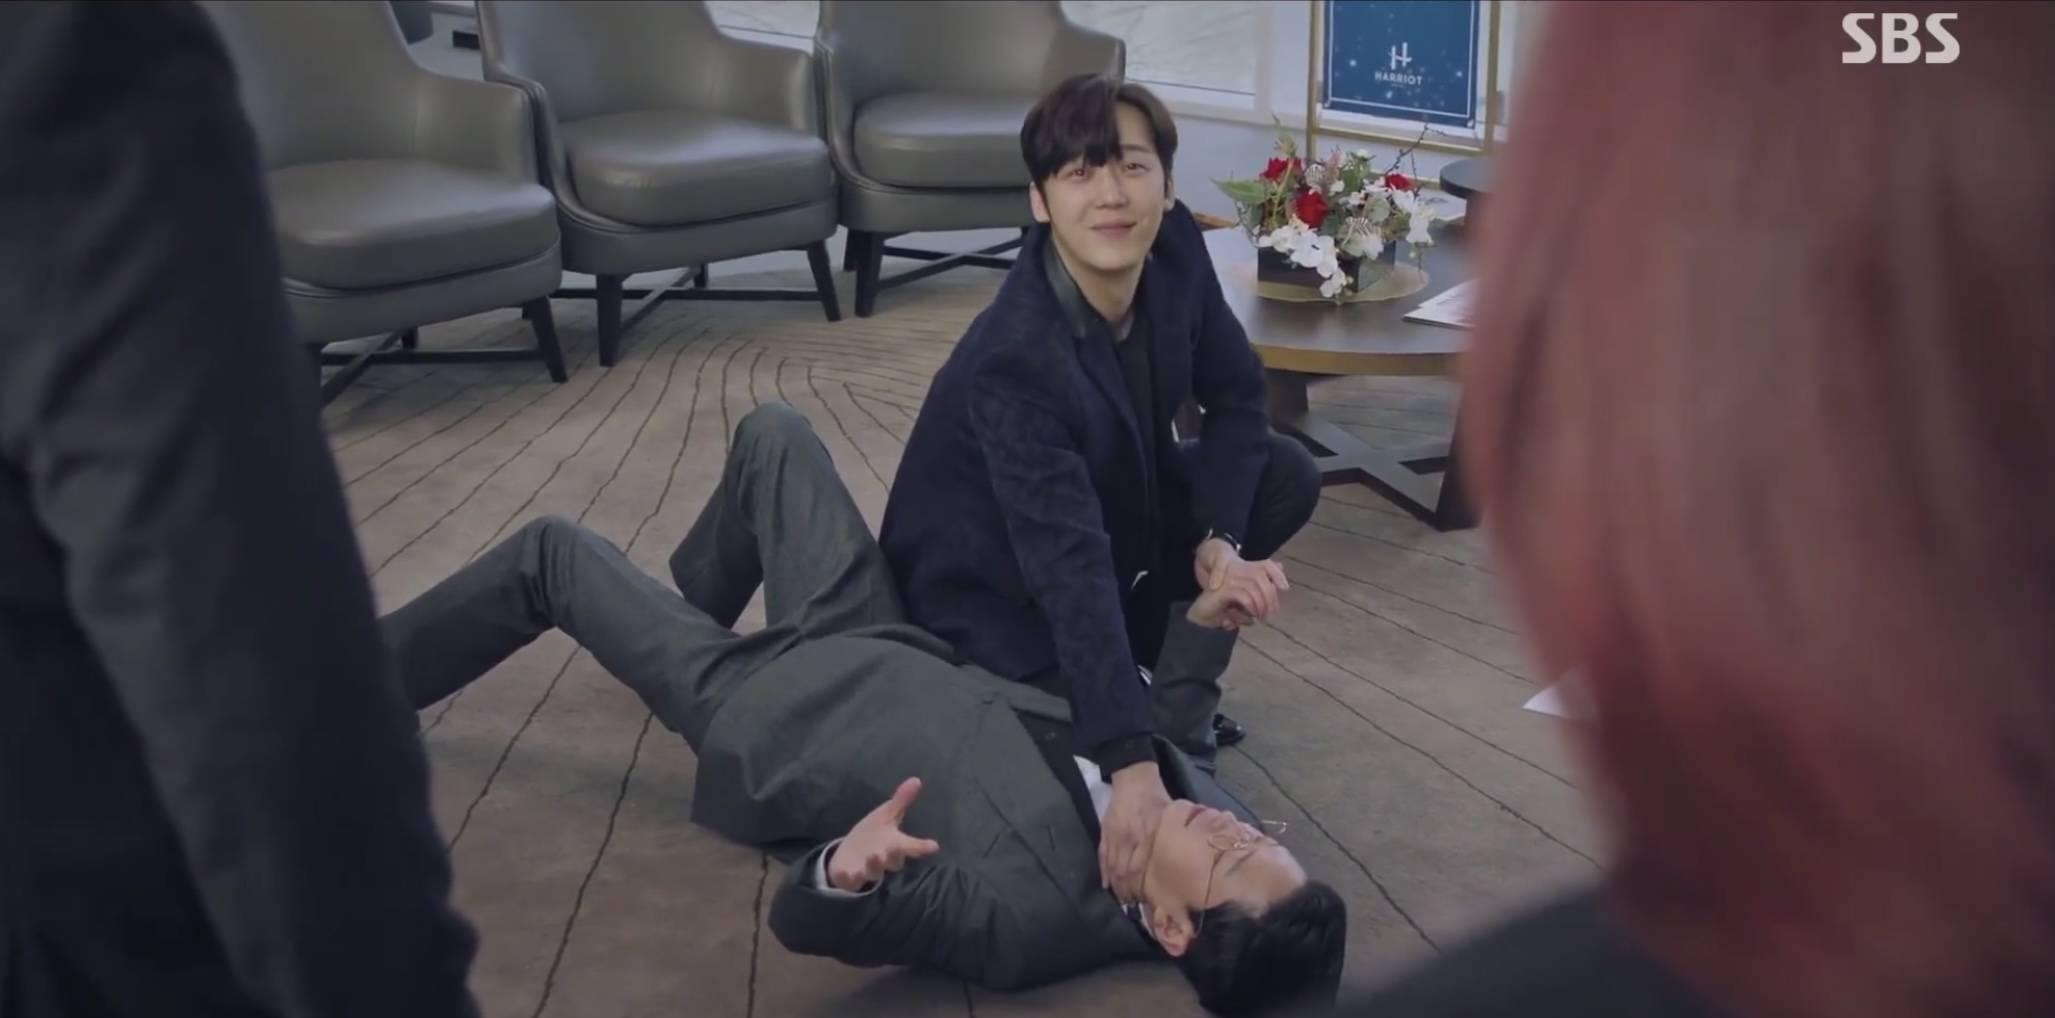bending: (874, 66, 1335, 769)
down: (366, 393, 1355, 1006)
